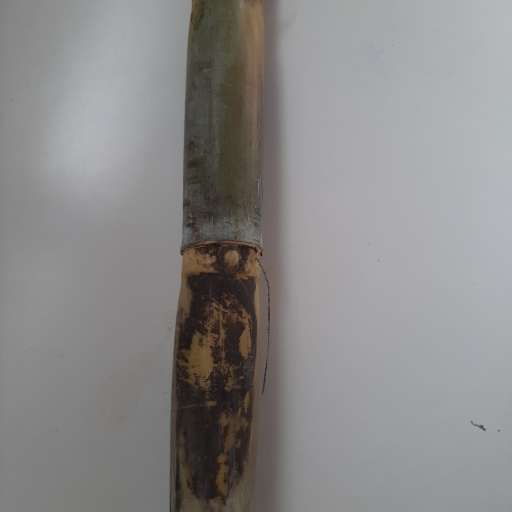Bud: (218, 246, 246, 279)
